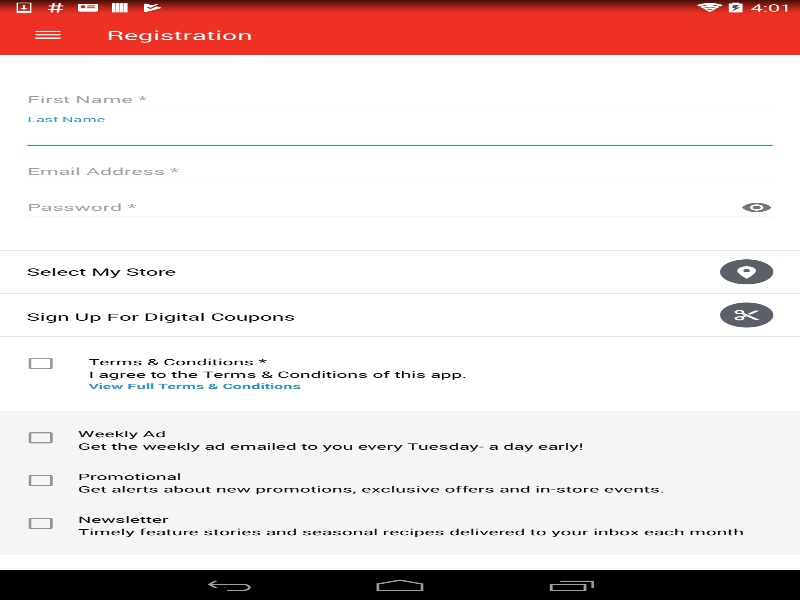Button: (10, 15, 85, 54), (735, 193, 778, 215)
Input: (22, 79, 778, 114), (22, 115, 778, 150), (22, 151, 778, 186), (22, 187, 778, 222)
